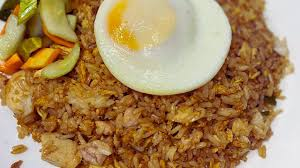Nasi goreng: (9, 60, 284, 166)
Telur ceplok: (91, 2, 235, 95)
